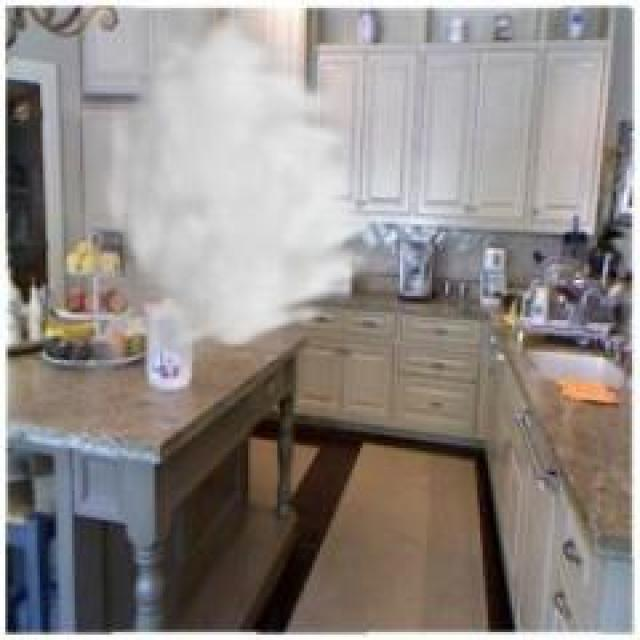Smoke: (80, 5, 368, 365)
